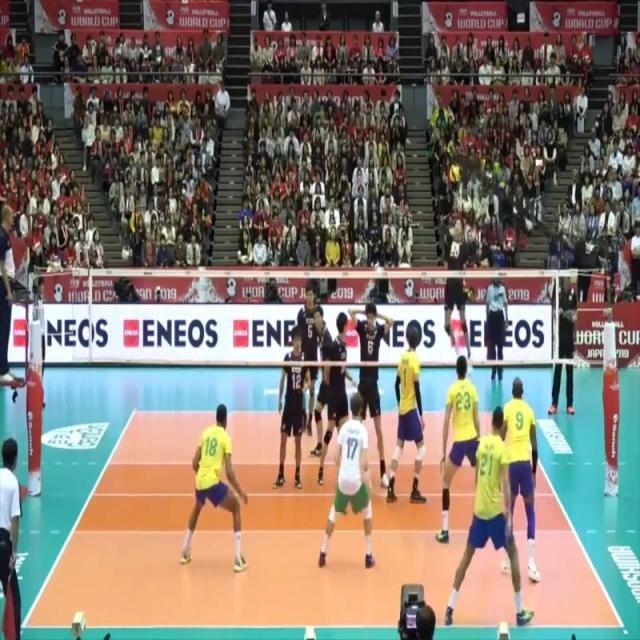volleyball: (448, 161, 462, 186)
